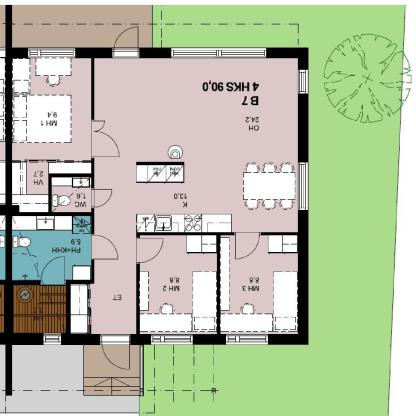door: (90, 121, 121, 162), (102, 337, 135, 371), (88, 232, 122, 264), (112, 24, 141, 61), (232, 232, 263, 266), (132, 236, 165, 267), (40, 256, 65, 286), (90, 189, 118, 209)
window: (169, 48, 267, 58), (150, 334, 196, 348), (227, 332, 270, 346), (297, 163, 310, 208), (29, 46, 76, 58), (38, 331, 66, 346), (298, 71, 309, 96)
zone: (93, 59, 302, 333), (13, 57, 93, 160), (138, 234, 219, 334), (220, 234, 298, 333), (11, 216, 91, 280), (13, 163, 91, 213), (12, 285, 88, 332), (83, 344, 142, 396)
